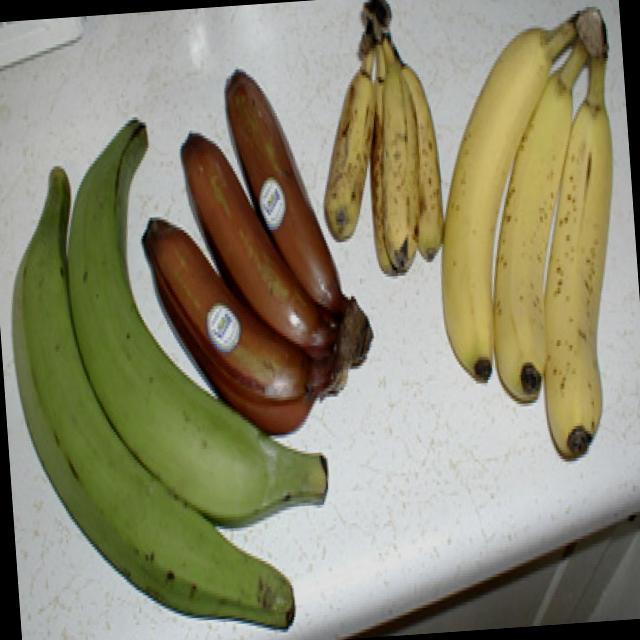Fresh_Banana: (451, 8, 640, 447)
Rotten_Banana: (133, 103, 397, 444), (313, 17, 474, 287)
